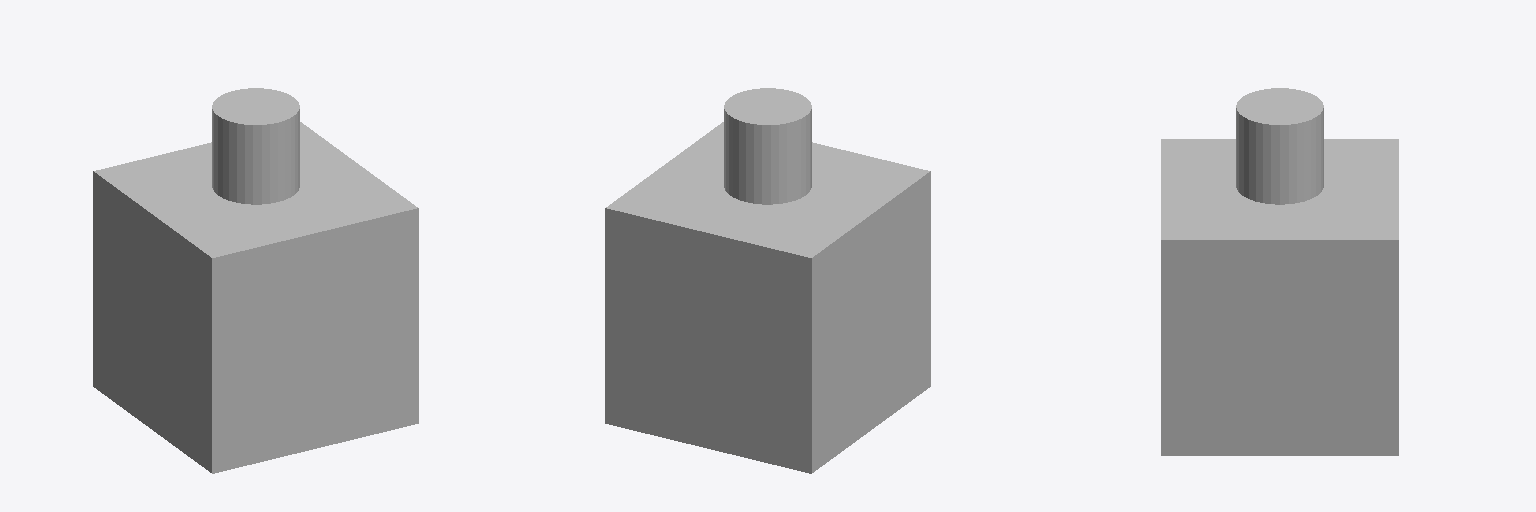
Rendered from GoalBlock.obj.
3 renders of one model, left to right at view 1: azimuth 30°, elevation 25°; view 2: azimuth 150°, elevation 25°; view 3: azimuth 270°, elevation 25°, orthographic.
Visible parts, largest first — view 1: Cube, 円柱; view 2: Cube, 円柱; view 3: Cube, 円柱.
Part boxes in pixels (x1,y1,x2,y2): Cube: (93, 122, 418, 473); 円柱: (212, 88, 299, 204); Cube: (605, 122, 930, 473); 円柱: (724, 88, 811, 204); Cube: (1161, 139, 1398, 455); 円柱: (1236, 88, 1323, 204).
Size of the model in its own units: 2 by 2.77 by 2.